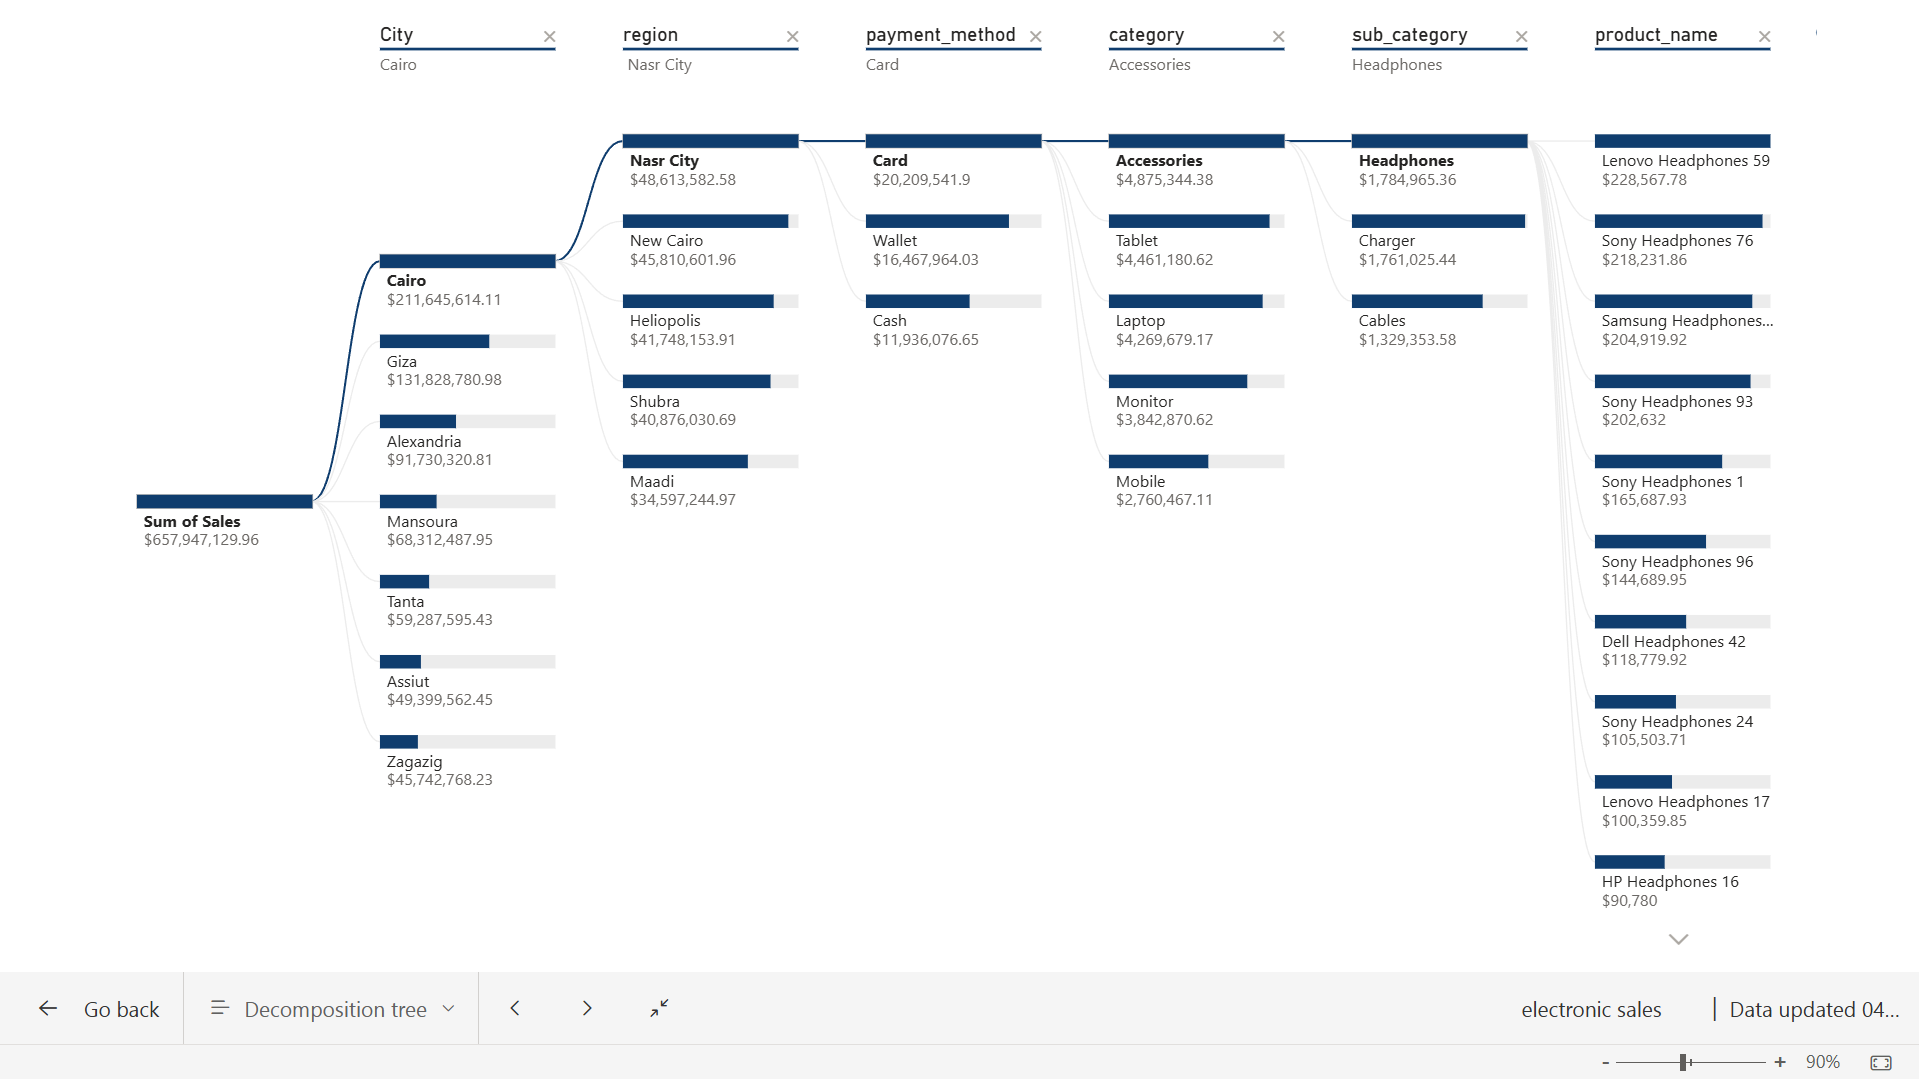

The dashboard page shown, as its layout file describes it:
{"tool":"powerbi","page":{"name":"Decomposition tree","canvas":[1280,720],"ordinal":6},"visuals":[{"type":"decompositionTreeVisual","fields":{"ExplainBy":["Customers.City","Customers.region","Orders.payment_method","Products.category","Products.sub_category","Products.product_name","Customers.source","Products.brand","Products.manufacturer"],"Analyze":["Sum(Orders.Sales)"]},"box":[0,0,1279.5,720],"z":0}]}

Visuals, with their boxes on the page's 1280x720 design canvas (x1, y1, x2, y2). These are canvas units, not pixel positions in the 1919x1079 screenshot, which may show the page scaled, cropped or inside an application window:
decompositionTreeVisual - Customers.City x Customers.region: crop(0, 0, 1280, 720)
